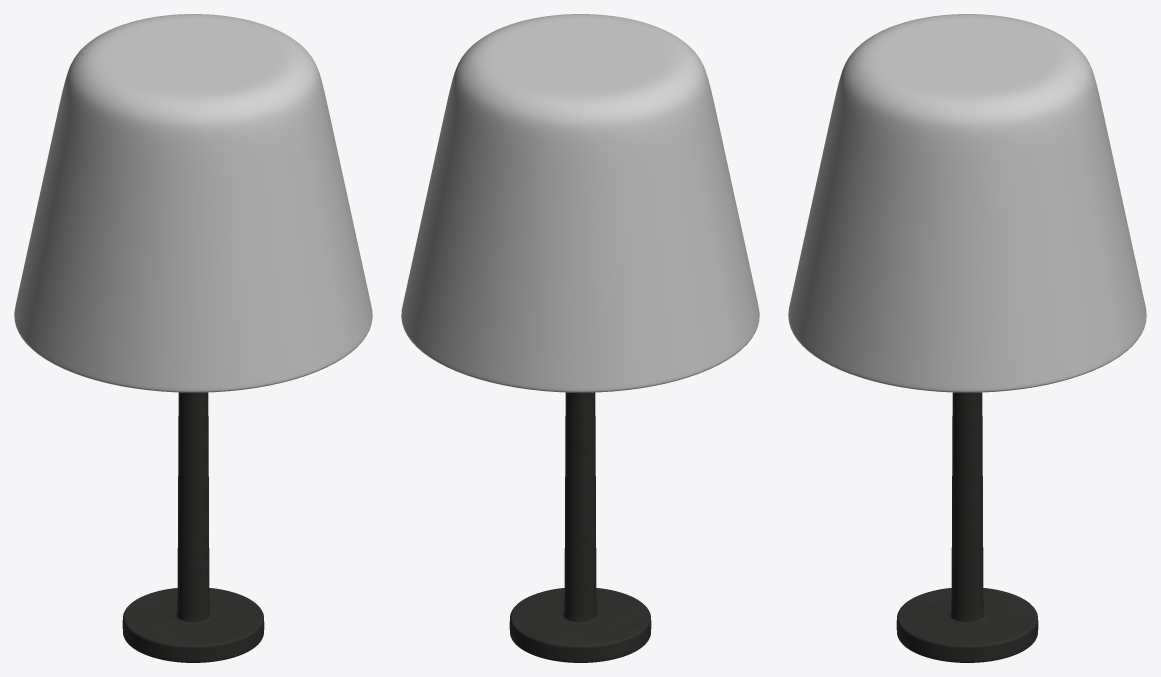
The model's file is A_PZ_LAMP_.fbx.
3 views of the same model, side by side, from view 1: azimuth 30°, elevation 25°; view 2: azimuth 150°, elevation 25°; view 3: azimuth 270°, elevation 25° (orthographic).
Parts seen in each view (by area): view 1: A_PZ_LAMP*; view 2: A_PZ_LAMP*; view 3: A_PZ_LAMP*.
Boxes of the visible parts, bbox=[...] form: A_PZ_LAMP*: bbox=[14, 14, 372, 662]; A_PZ_LAMP*: bbox=[401, 14, 759, 662]; A_PZ_LAMP*: bbox=[788, 14, 1146, 662].
Bounding box in the file's own units: 55.91 × 99.42 × 55.91.
